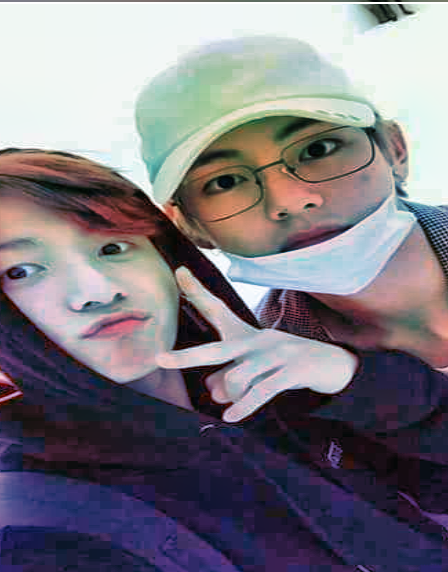mask_weared_incorrect: (139, 33, 405, 299)
